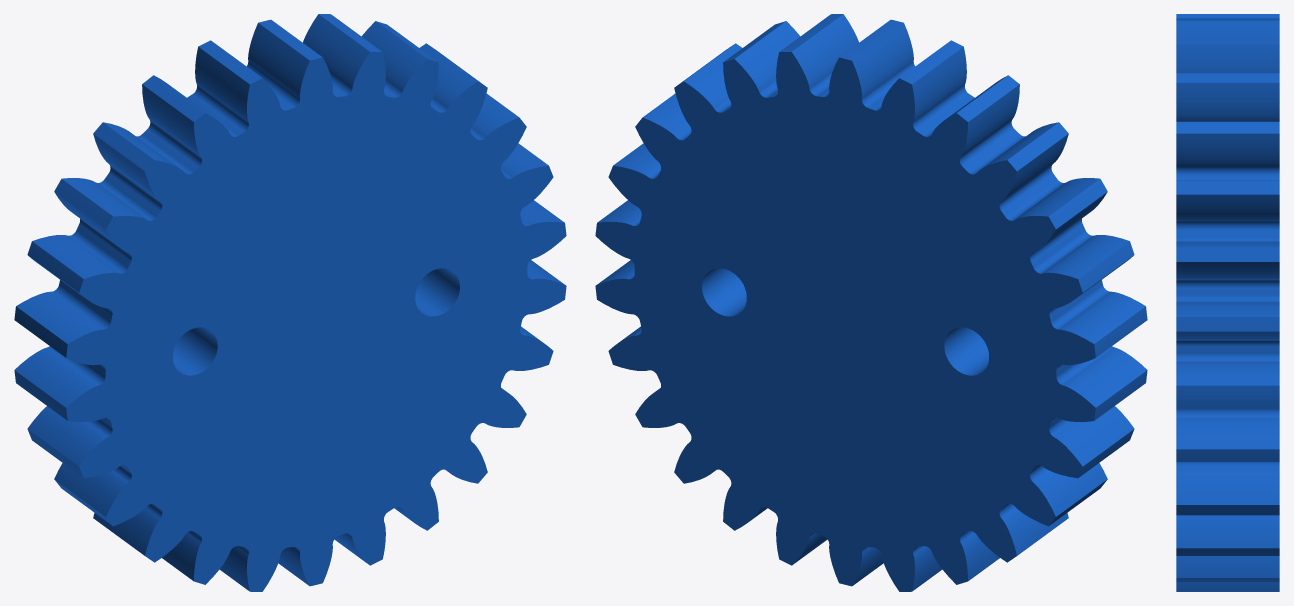
File: spur_gear.obj
3 renders of one model, left to right at view 1: azimuth 30°, elevation 25°; view 2: azimuth 150°, elevation 25°; view 3: azimuth 270°, elevation 25°, orthographic.
Parts seen in each view (by area): view 1: mesh1, mesh95, mesh124, mesh129, mesh90, mesh115, mesh119, mesh134, mesh80, mesh0, mesh159, mesh110 (+17 smaller); view 2: mesh2, mesh95, mesh124, mesh129, mesh90, mesh115, mesh119, mesh134, mesh80, mesh0, mesh159, mesh110 (+17 smaller); view 3: mesh135, mesh34, mesh49, mesh150, mesh29, mesh130, mesh155, mesh139, mesh54, mesh145, mesh125, mesh3 (+33 smaller).
Boxes of the visible parts, x1,y1,x2,y2 form: mesh1: (66,52,566,591); mesh95: (15,347,98,407); mesh124: (248,23,309,98); mesh129: (303,14,369,88); mesh90: (27,406,107,466); mesh115: (16,291,102,343); mesh119: (195,47,249,121); mesh134: (361,21,426,91); mesh80: (54,463,128,516); mesh0: (415,268,459,316); mesh159: (173,327,217,375); mesh110: (32,235,118,278); mesh2: (595,52,1095,591); mesh95: (1063,347,1146,407); mesh124: (852,23,913,98); mesh129: (792,14,858,88); mesh90: (1054,406,1134,466); mesh115: (1059,291,1145,343); mesh119: (912,47,966,121); mesh134: (735,21,800,91); mesh80: (1033,463,1107,516); mesh0: (702,268,746,316); mesh159: (944,327,988,375); mesh110: (1043,235,1129,278); mesh135: (1176,82,1279,120); mesh34: (1176,468,1279,504); mesh49: (1176,515,1279,548); mesh150: (1176,133,1279,166); mesh29: (1176,419,1279,449); mesh130: (1176,44,1279,73); mesh155: (1176,194,1279,220); mesh139: (1176,362,1279,385); mesh54: (1176,556,1279,577); mesh145: (1176,262,1279,279); mesh125: (1176,21,1279,37); mesh3: (1176,247,1279,261).
Bounding box in the file's own units: 0.0279 × 0.028 × 0.005.
